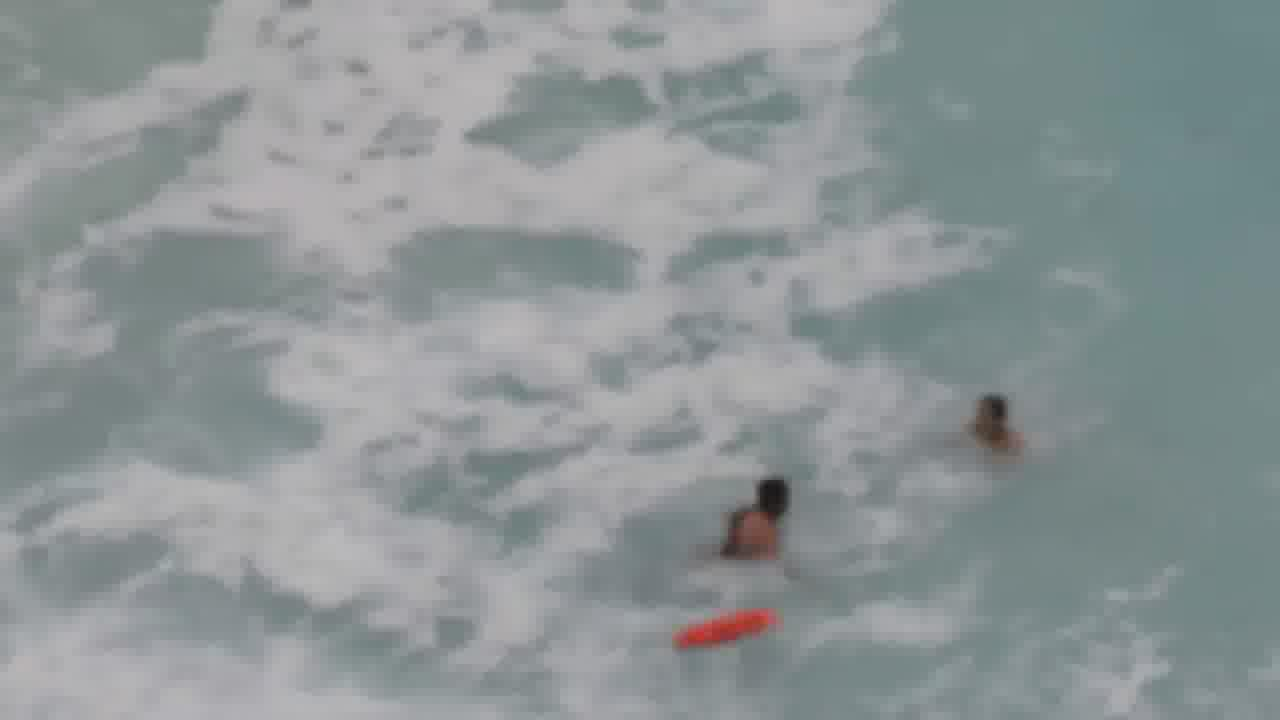human: (956, 383, 1032, 465), (727, 471, 791, 557)
